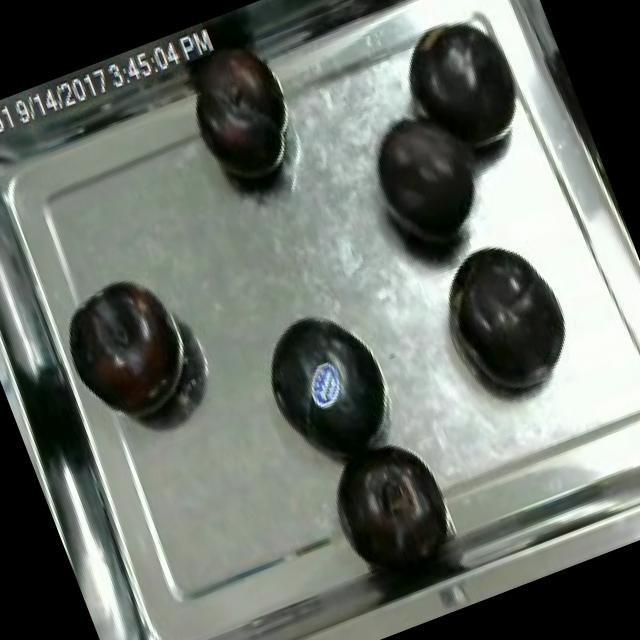Fruit: (241, 285, 414, 480), (426, 220, 589, 409), (46, 260, 208, 440), (166, 28, 318, 209), (387, 1, 544, 174), (351, 95, 502, 269), (318, 428, 459, 570)
